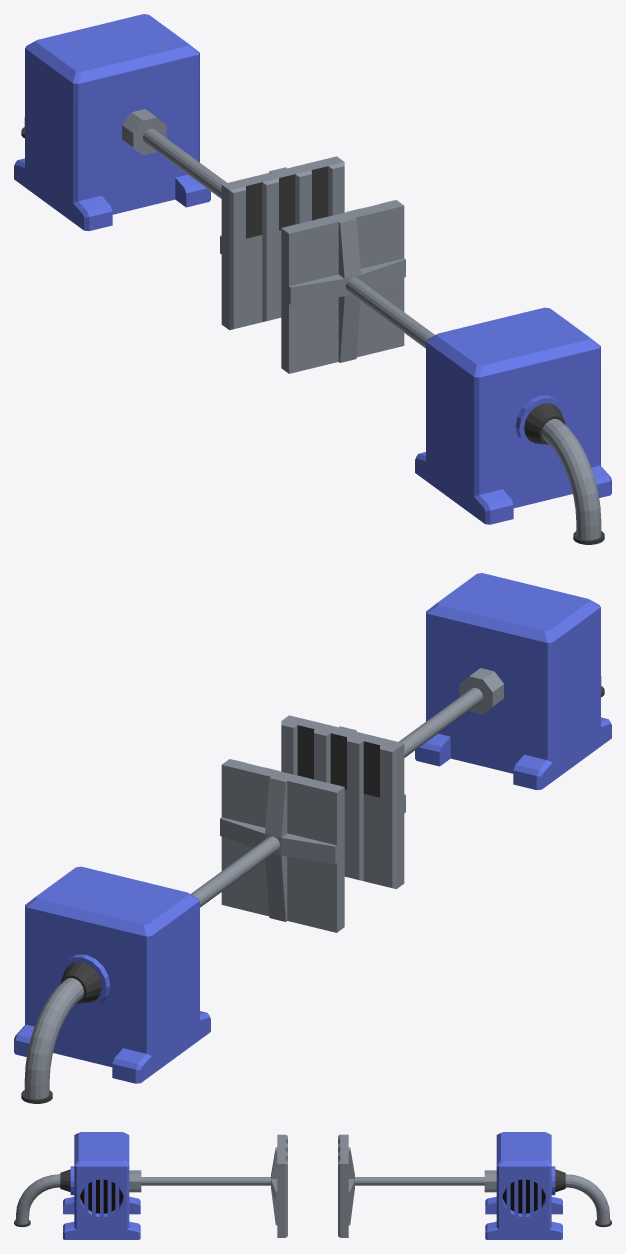
File: Prensa_Hidrulica_Sala_D.fbx
3 renders of one model, top to bottom at view 1: azimuth 30°, elevation 25°; view 2: azimuth 150°, elevation 25°; view 3: azimuth 270°, elevation 25°, orthographic. The views are drawn at different scales.
Visible parts, largest first — view 1: Prensa_Hidraulica_01.001; view 2: Prensa_Hidraulica_01.001; view 3: Prensa_Hidraulica_01.001.
Boxes of the visible parts, x1,y1,x2,y2 form: Prensa_Hidraulica_01.001: (14, 14, 611, 544); Prensa_Hidraulica_01.001: (14, 573, 611, 1103); Prensa_Hidraulica_01.001: (14, 1132, 611, 1239).
Bounding box in the file's own units: 282 × 311 × 2184.
